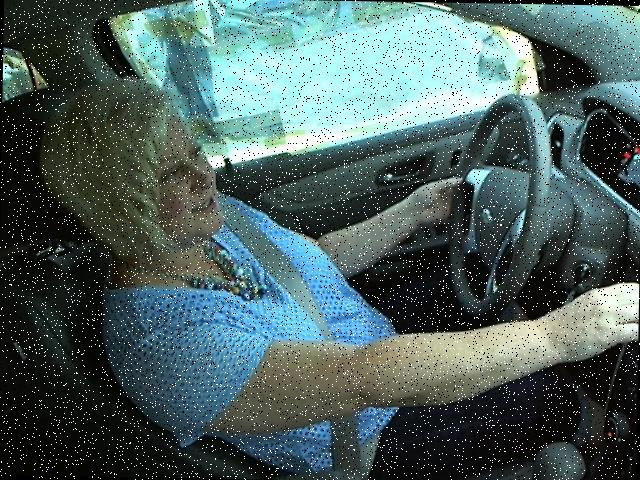c3 - Operating the Radio: (22, 64, 638, 424)
